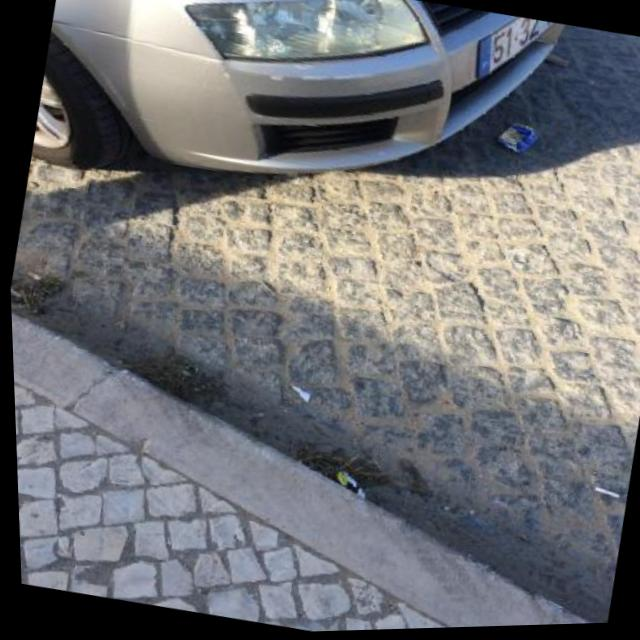metal: (496, 120, 542, 157)
